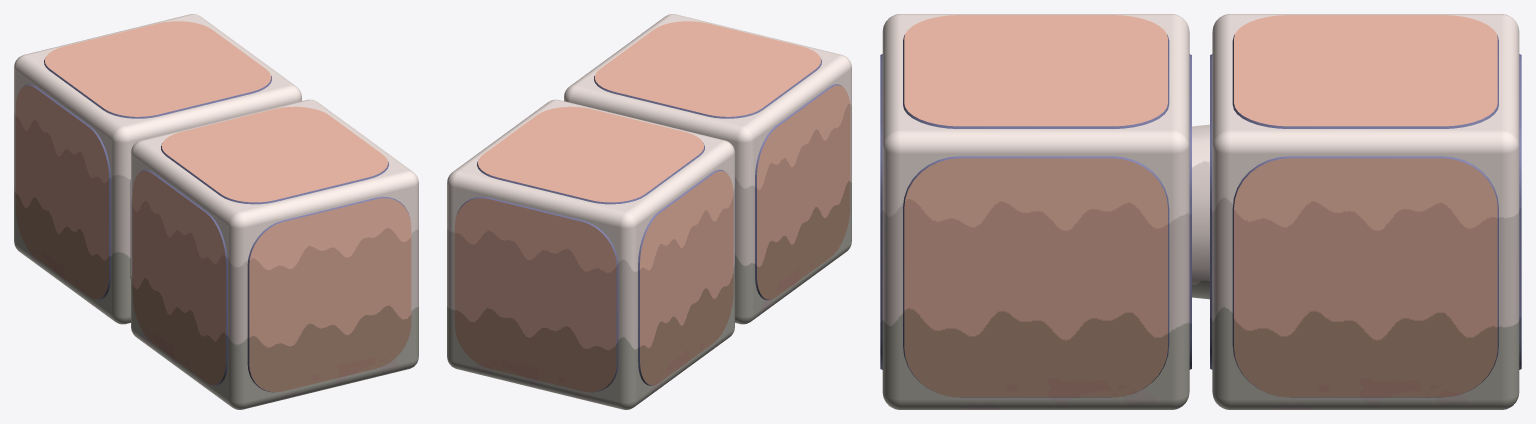
File: R4C_STRUT_SHORT.glb
3 views of the same model, side by side, from view 1: azimuth 30°, elevation 25°; view 2: azimuth 150°, elevation 25°; view 3: azimuth 270°, elevation 25° (orthographic). The views are drawn at different scales.
Parts seen in each view (by area): view 1: R4C_STRUT_SHORT; view 2: R4C_STRUT_SHORT; view 3: R4C_STRUT_SHORT.
Boxes of the visible parts, box(x1,y1,x2,y2) form: R4C_STRUT_SHORT: box(14, 14, 418, 409); R4C_STRUT_SHORT: box(447, 14, 851, 409); R4C_STRUT_SHORT: box(880, 14, 1521, 409).
Bounding box in the file's own units: 0.52 × 0.52 × 1.07.
3 materials, 3 textured.
